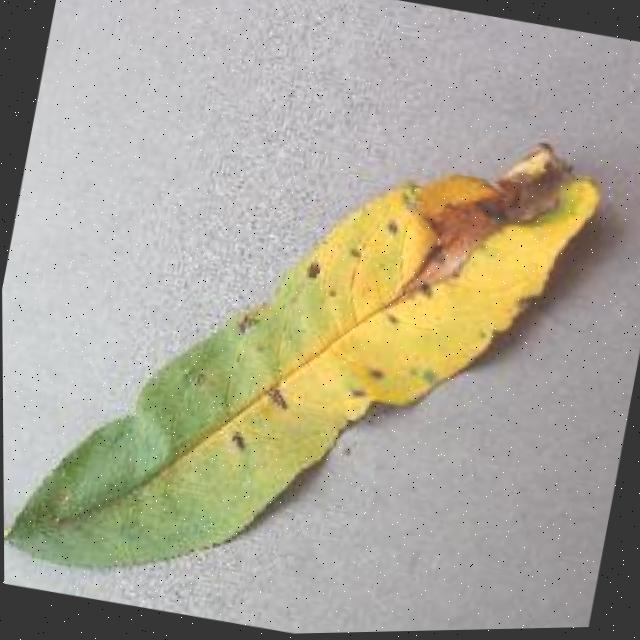Bacterial_spot: (256, 380, 305, 427), (348, 352, 401, 389), (297, 250, 336, 294), (226, 421, 263, 467), (371, 302, 415, 339), (342, 227, 375, 274), (464, 319, 500, 353), (412, 270, 445, 305), (382, 208, 411, 242), (345, 382, 380, 408)
